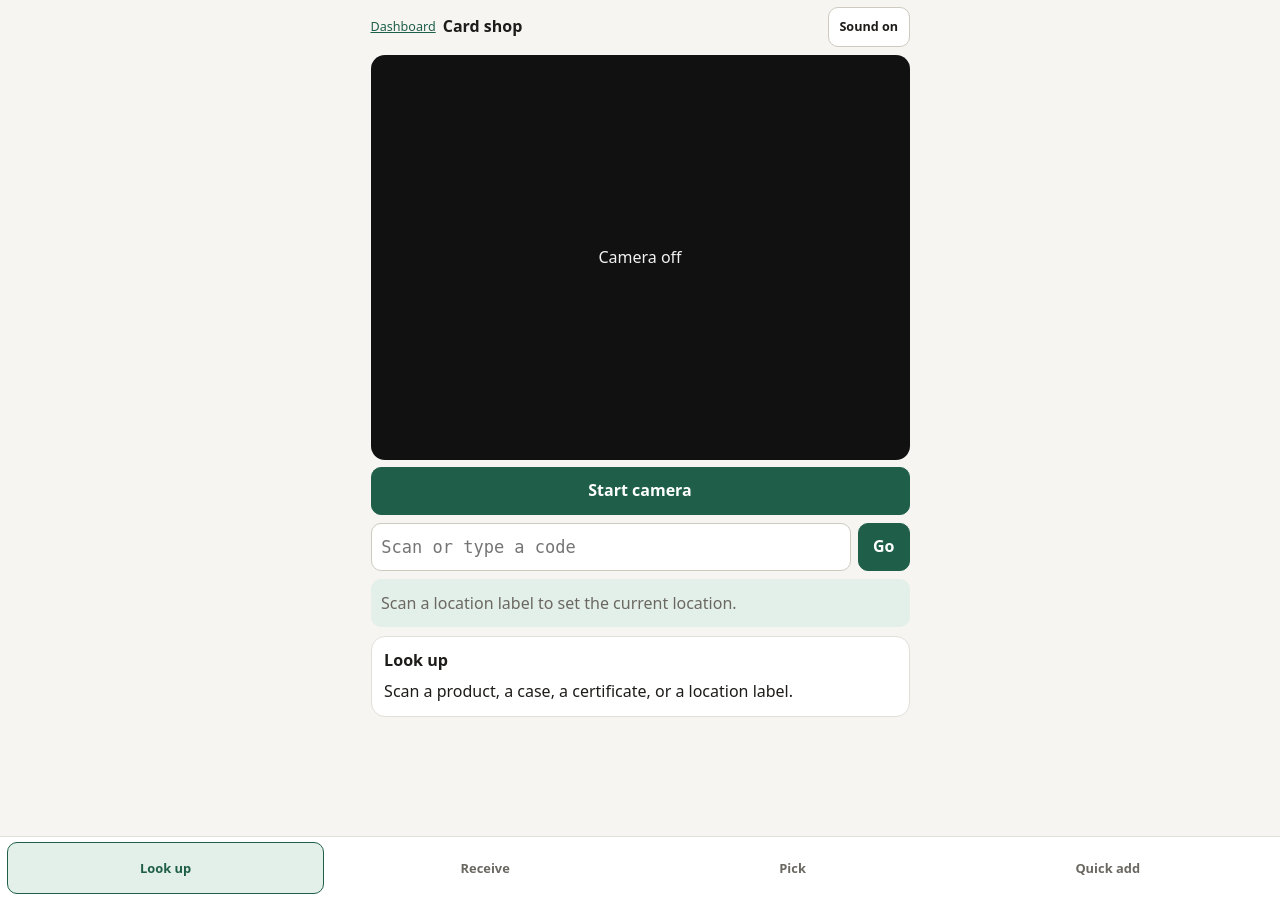
Test: scan page: unknown codes › attaches an unknown code to an item found by search
Step 1. Type "5901234123457" into the field labelled "code" → point(611, 547), box [370,523,851,571]
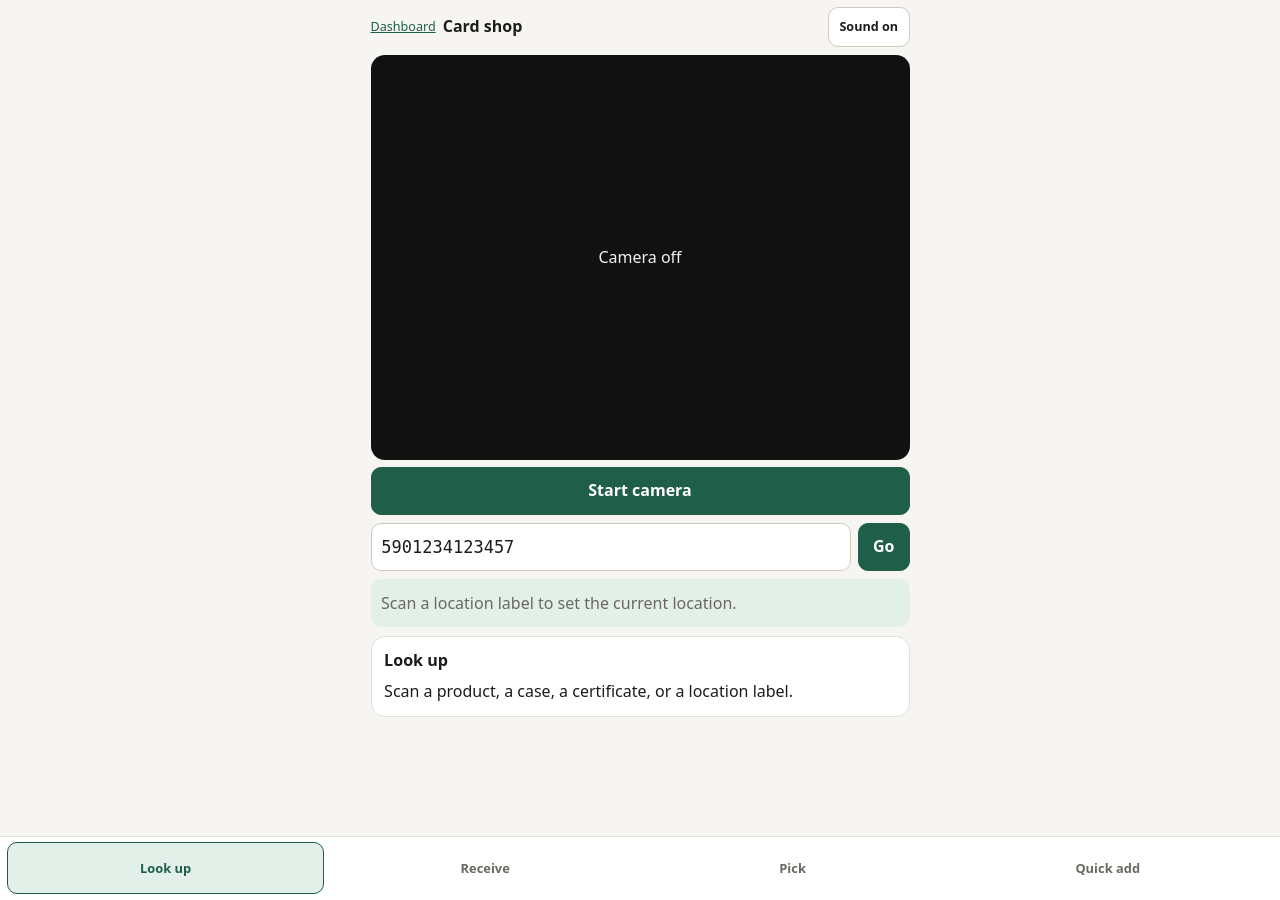
Step 2. Submit the form named "Code", box [370,523,910,571]
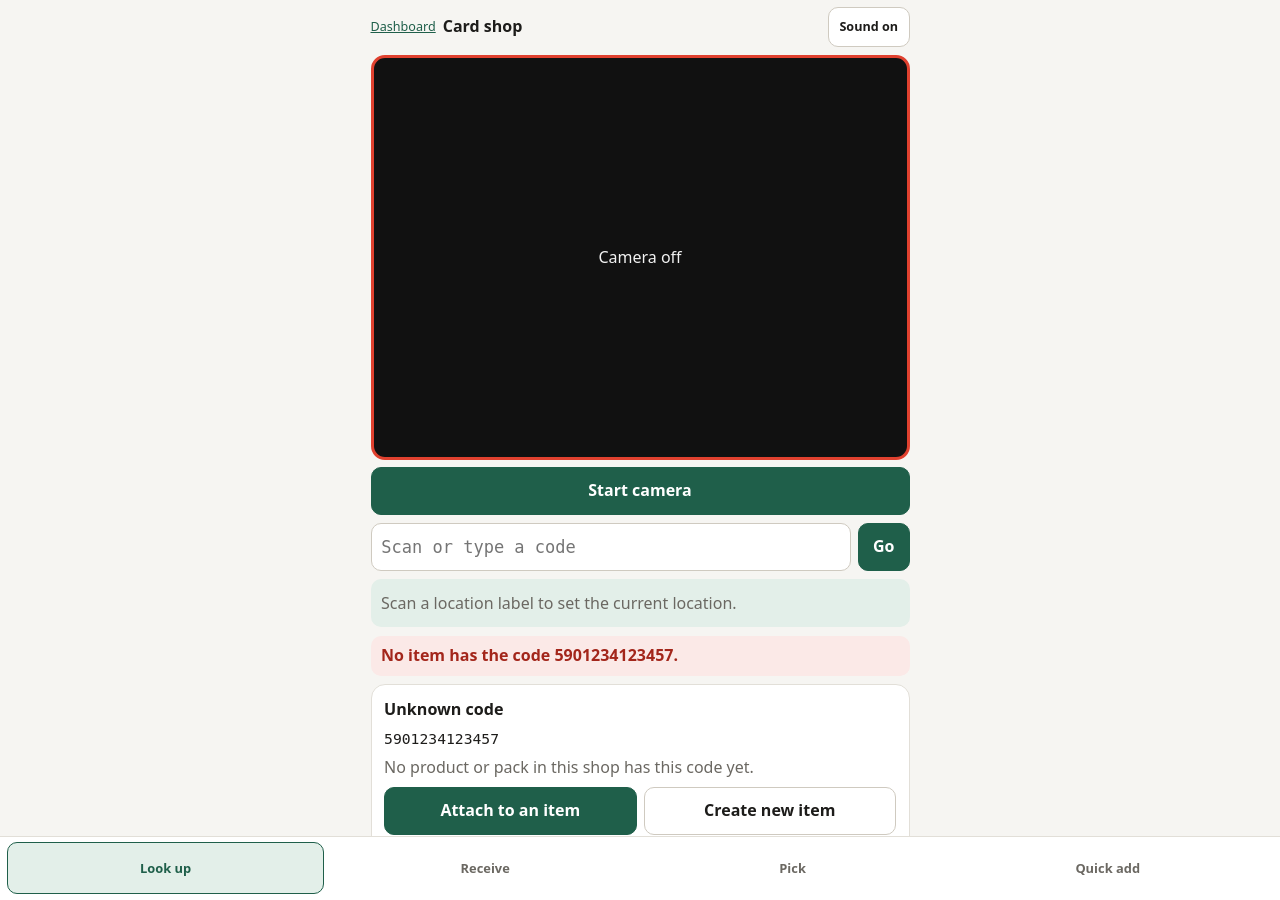
expect the heading "Unknown code" is shown: met, box [384,698,504,720]
Step 3. Click the button "Attach to an item" → point(510, 811), box [384,787,636,835]
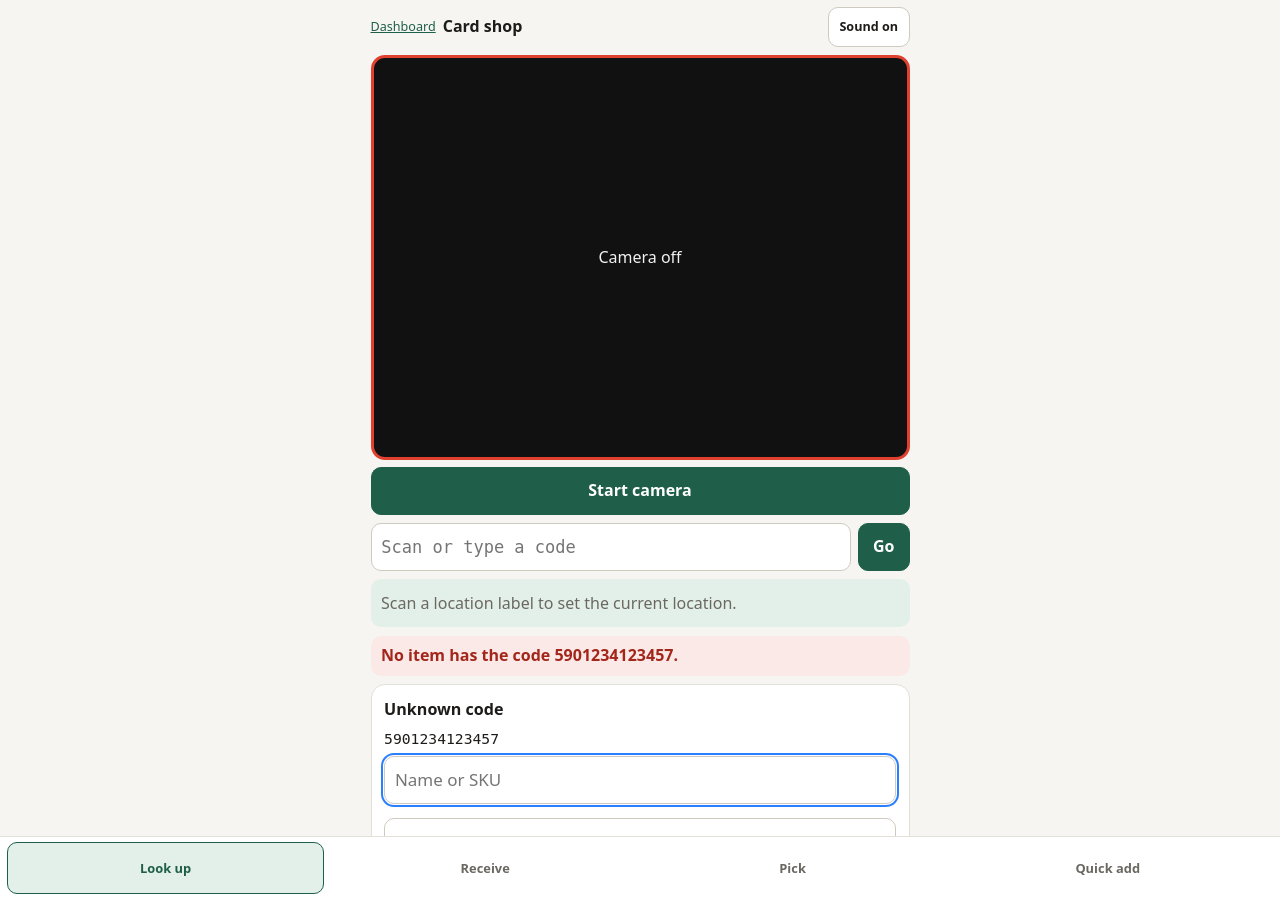
Step 4. Type "boost" into the search field named "Find the item" → point(640, 780), box [384,756,896,804]
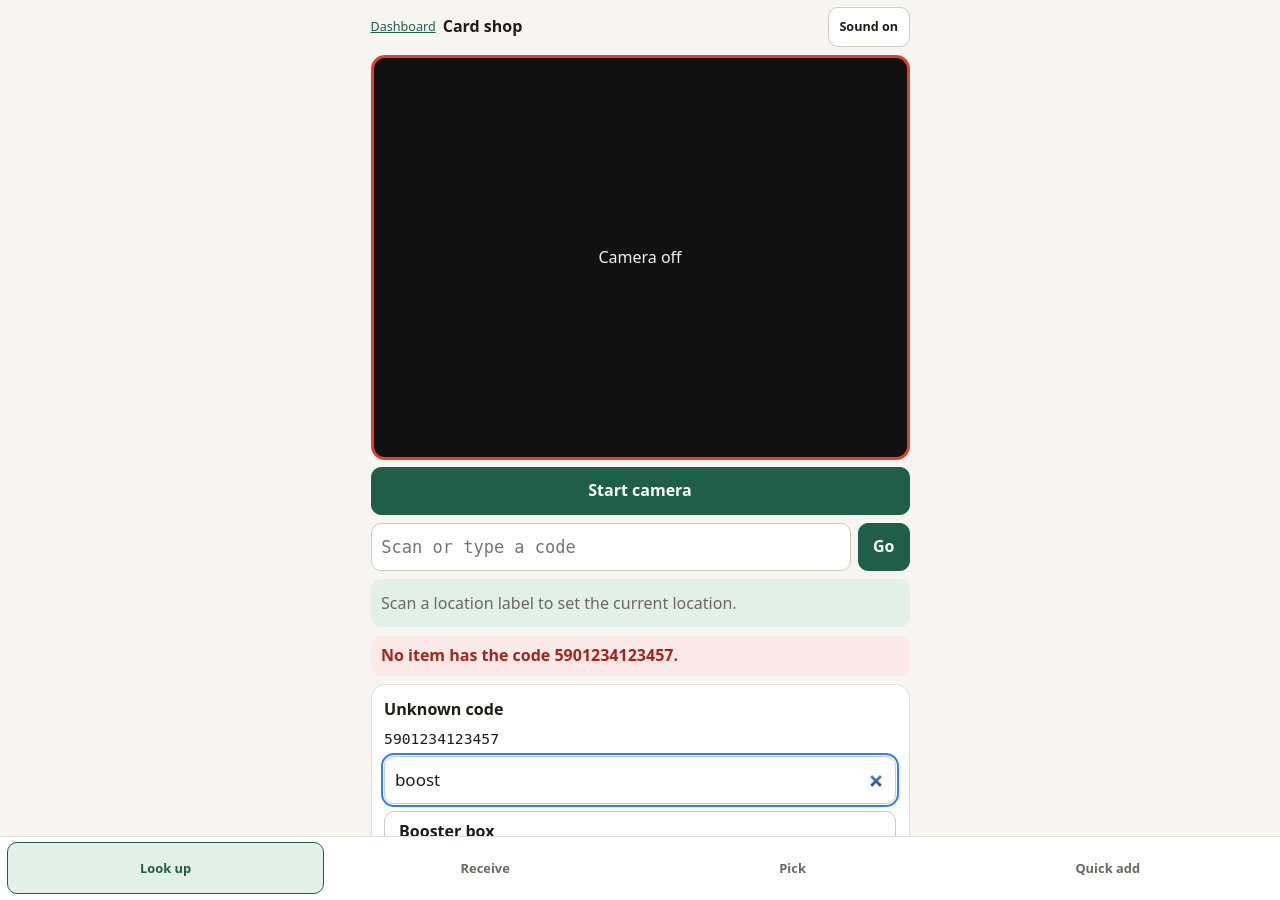
Step 5. Click the button "Booster box BOX-1" → point(447, 831), box [384,811,896,875]
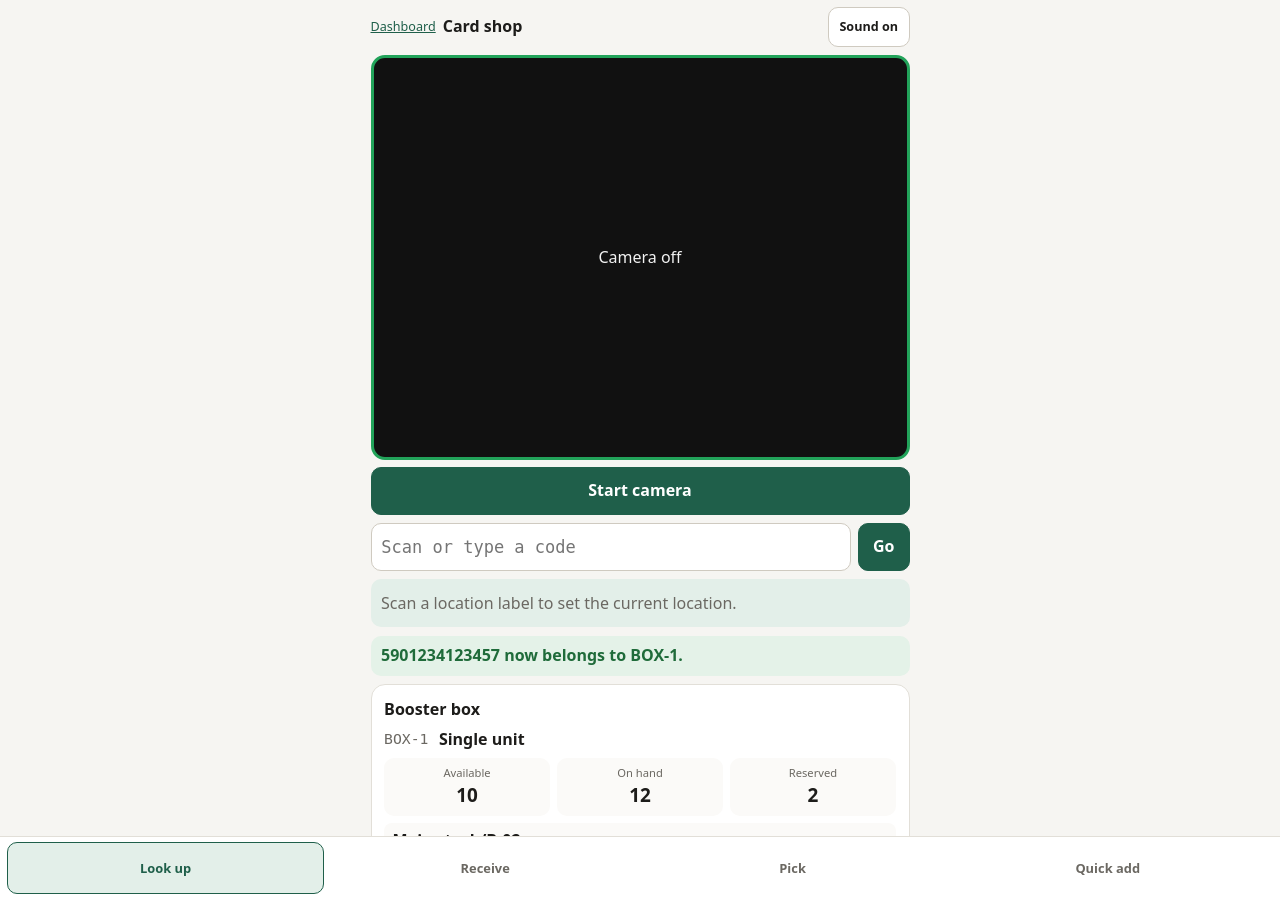
expect the heading "Booster box" is shown: met, box [384,698,480,720]
